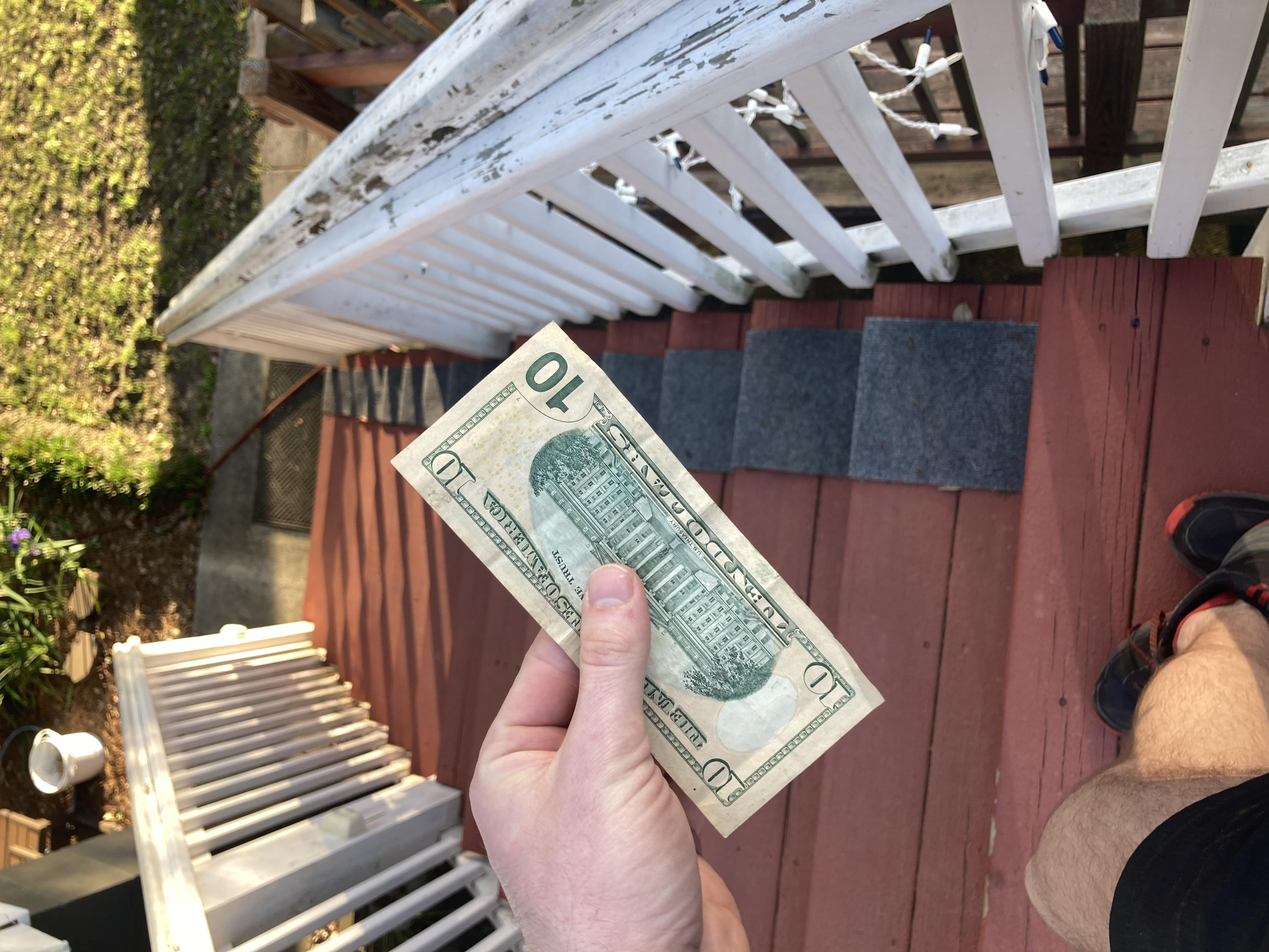ten-back: (153, 291, 847, 662)
